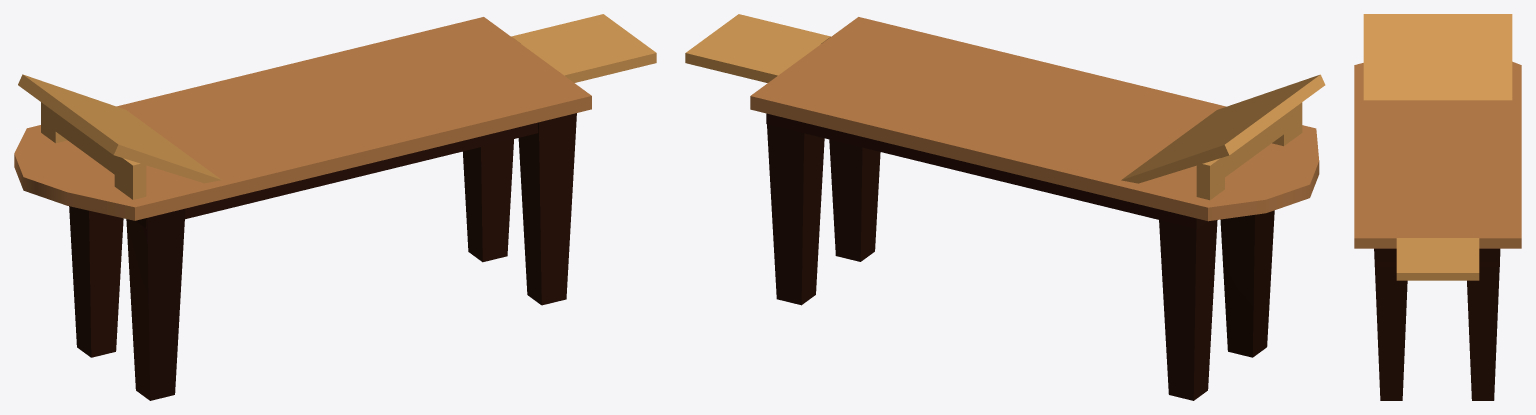
The model's file is TableOPText.fbx.
3 renders of one model, left to right at view 1: azimuth 30°, elevation 25°; view 2: azimuth 150°, elevation 25°; view 3: azimuth 270°, elevation 25°, orthographic. The views are drawn at different scales.
Parts seen in each view (by area): view 1: Table, Table.002, Repose_Tête, Table.001; view 2: Table, Table.002, Repose_Tête, Table.001; view 3: Table, Repose_Tête, Table.002, Table.001.
Part boxes in pixels (x1,y1,x2,y2): Table: (14, 17, 591, 220); Table.002: (69, 113, 576, 400); Repose_Tête: (18, 74, 221, 199); Table.001: (511, 14, 656, 82); Table: (750, 17, 1319, 221); Table.002: (766, 113, 1274, 400); Repose_Tête: (1121, 74, 1325, 200); Table.001: (685, 14, 830, 82); Table: (1354, 61, 1521, 248); Repose_Tête: (1363, 14, 1512, 100); Table.002: (1374, 248, 1500, 400); Table.001: (1396, 238, 1479, 280).
Size of the model in its own units: 760 by 332 by 236.
